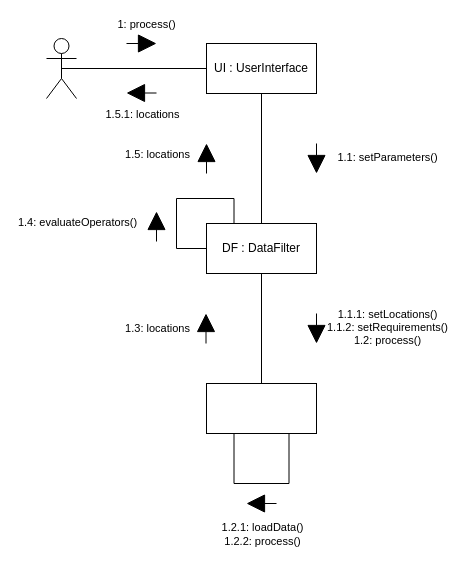
Some shapes in this 465 by 564 pixel diagram are drawn without their labels. Here are the shapes that lost their labels. From the top down, the box of each, then its label:
(46, 38, 76, 98): User
(206, 382, 316, 434): : Condition
